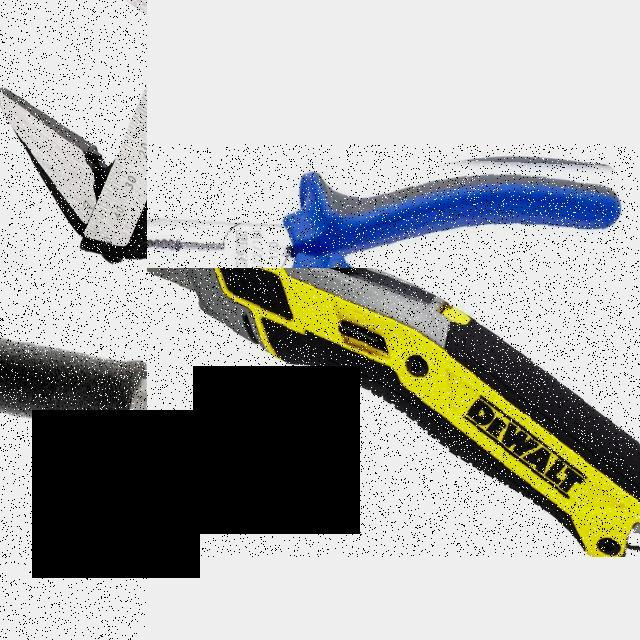estilete: (152, 268, 639, 556)
